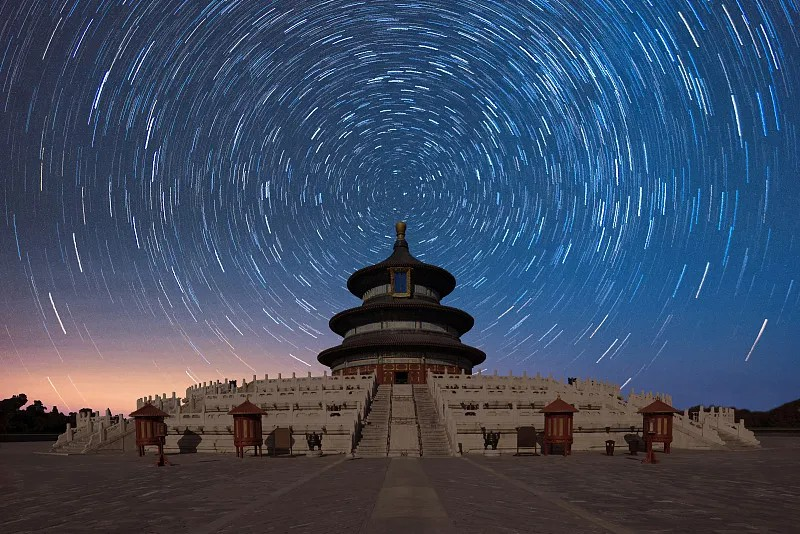Heaven: (317, 223, 487, 383)
